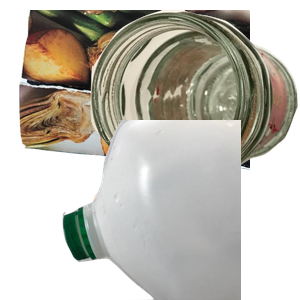glass: (90, 10, 300, 184)
paper: (16, 10, 256, 172)
plastic: (60, 120, 300, 300)
trash: (88, 177, 251, 300)
